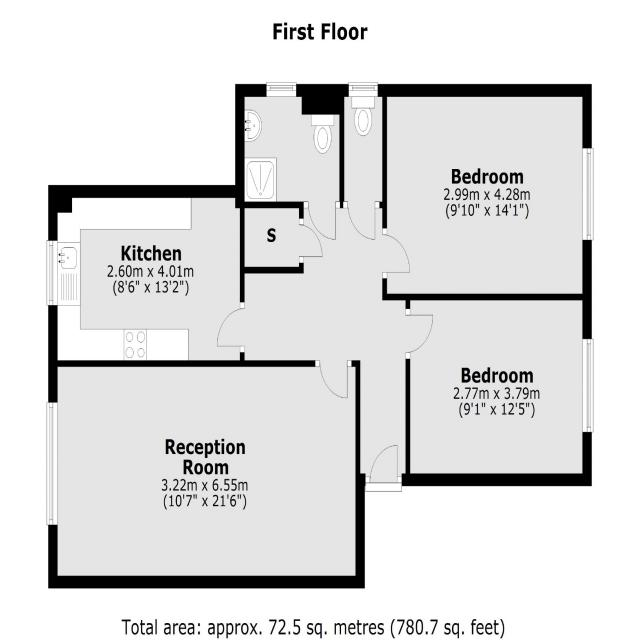DOOR: (365, 444, 403, 492), (342, 201, 381, 242), (405, 307, 434, 361), (216, 301, 245, 354), (314, 360, 352, 400), (303, 201, 341, 241), (382, 227, 410, 279)
ROOM: (46, 360, 365, 589), (382, 84, 594, 300), (405, 293, 594, 487), (46, 184, 245, 368)
WINDOW: (45, 401, 59, 527), (581, 147, 594, 241), (582, 338, 594, 433), (46, 240, 58, 306), (265, 81, 298, 98), (348, 81, 379, 98)
